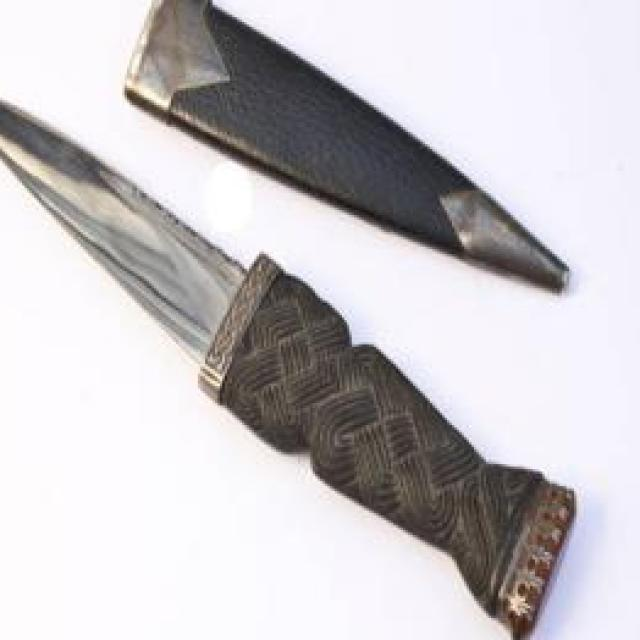knife: (0, 80, 577, 640)
